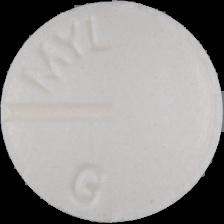55154-5224: (0, 0, 224, 224)
